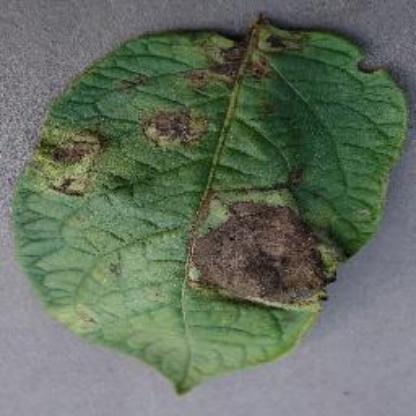Late-Blight: (13, 16, 406, 394)
